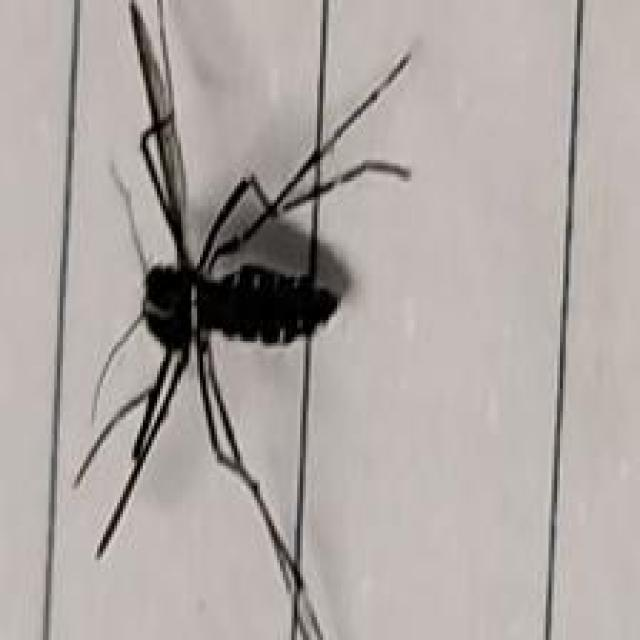Aedes albopictus: (69, 0, 414, 640)
